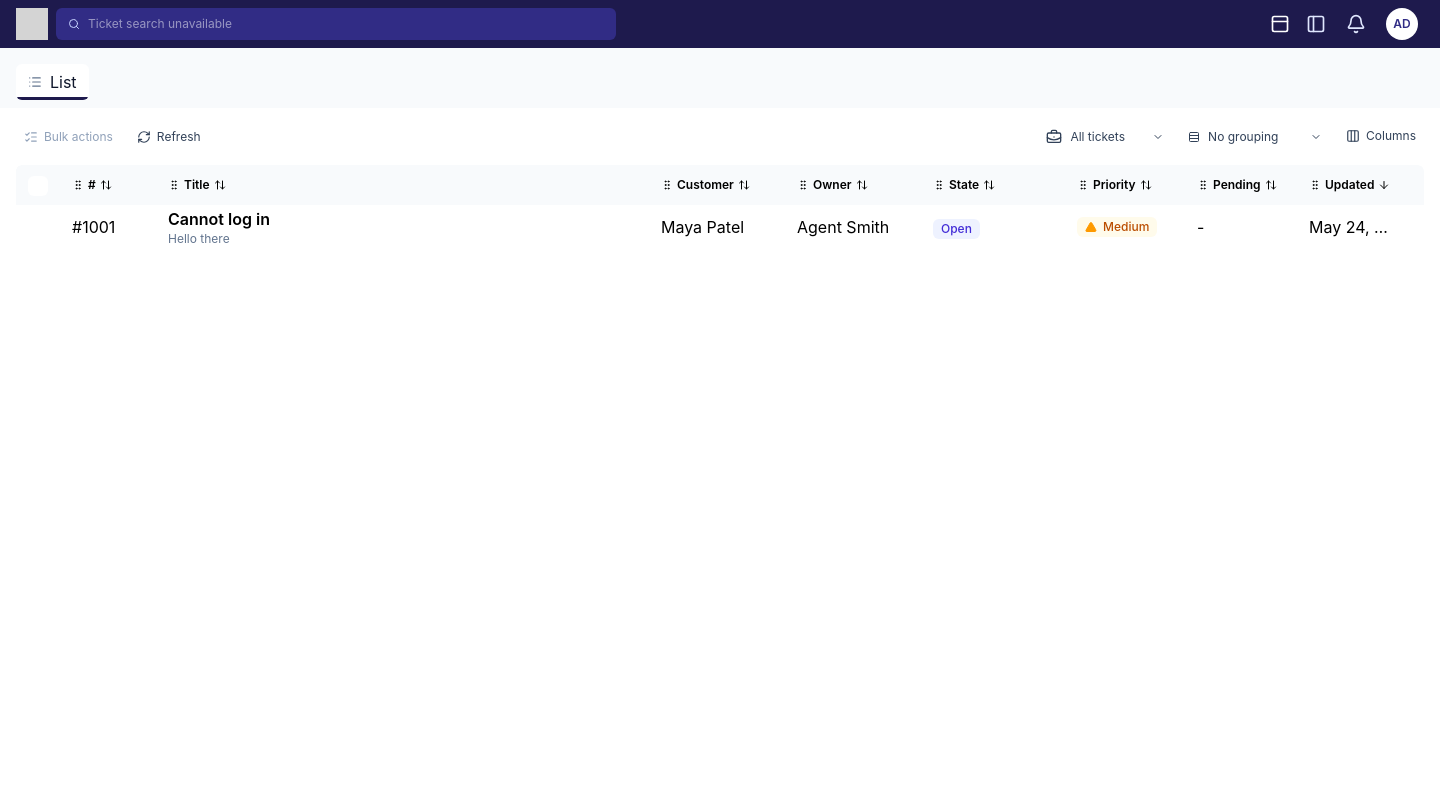
Test: TicketWorkspace AI settings admin personal key › hides the personal key form when users-provide-keys is not selected
This screenshot has width=1440, height=810.
Click the button with aria-label "Open profile menu, Support" at (1402, 24), box top-left (1380, 4), bottom-right (1424, 44)
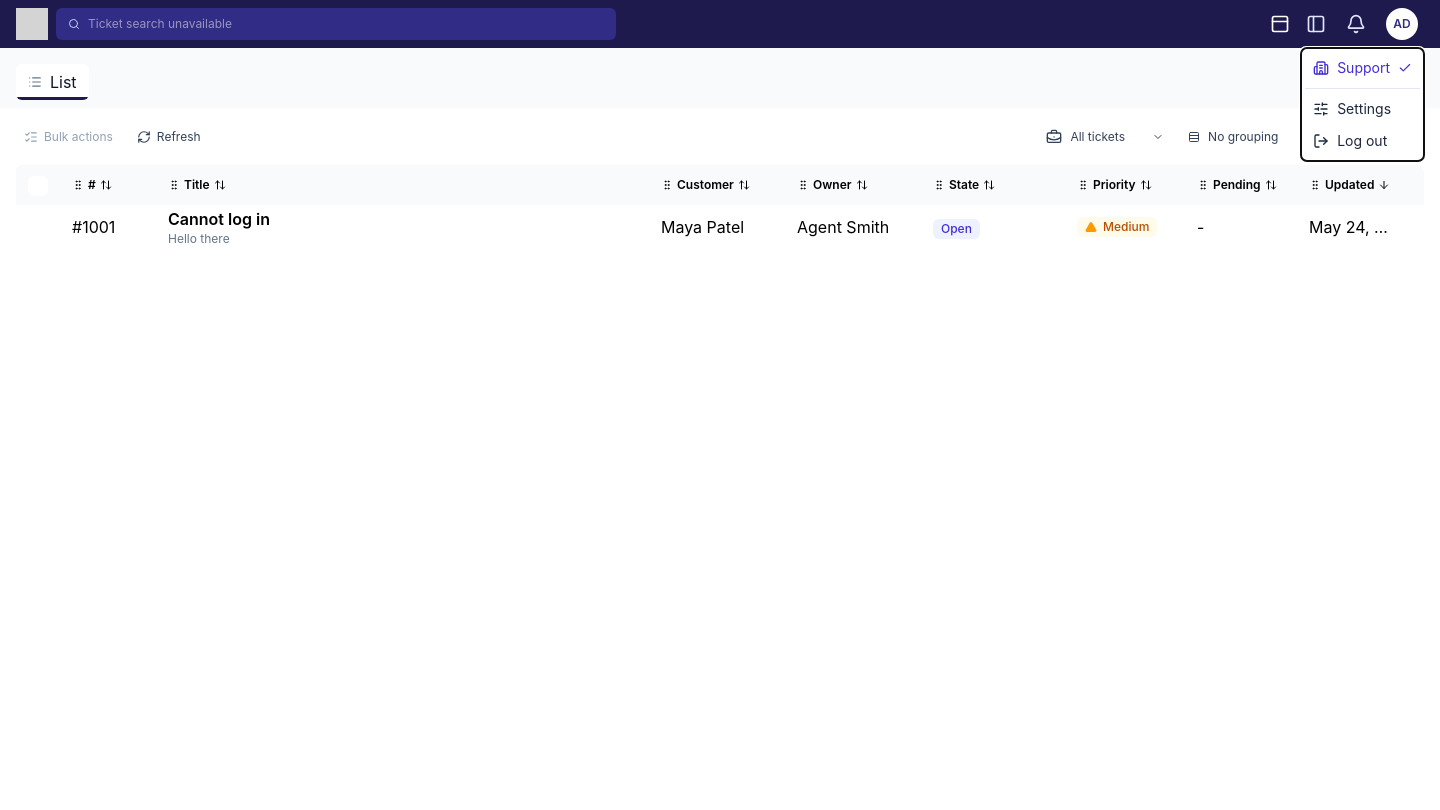
Click the menu item "Settings" at (1363, 109), box top-left (1305, 93), bottom-right (1420, 125)
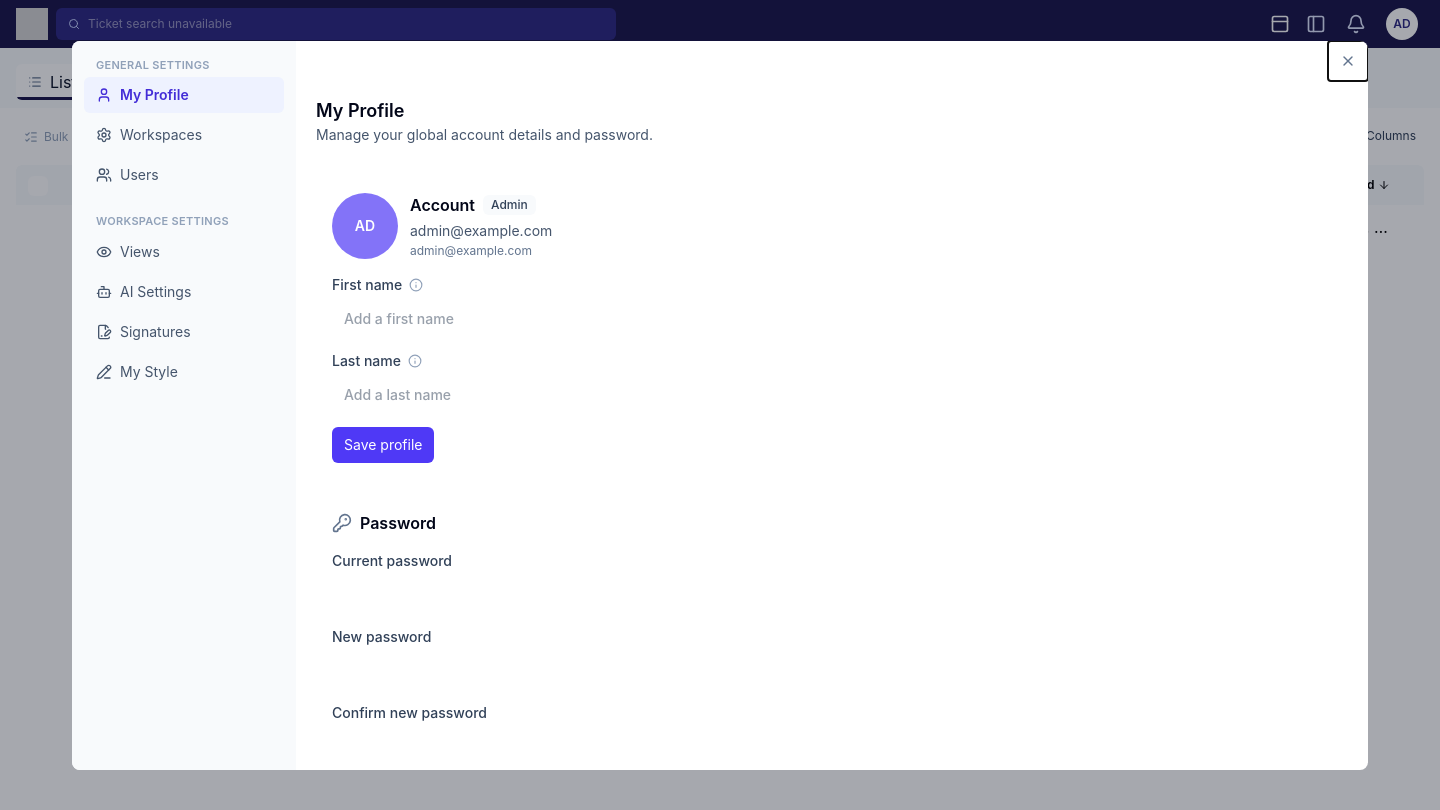
Click the button "AI Settings" at (184, 292), box top-left (84, 274), bottom-right (284, 310)
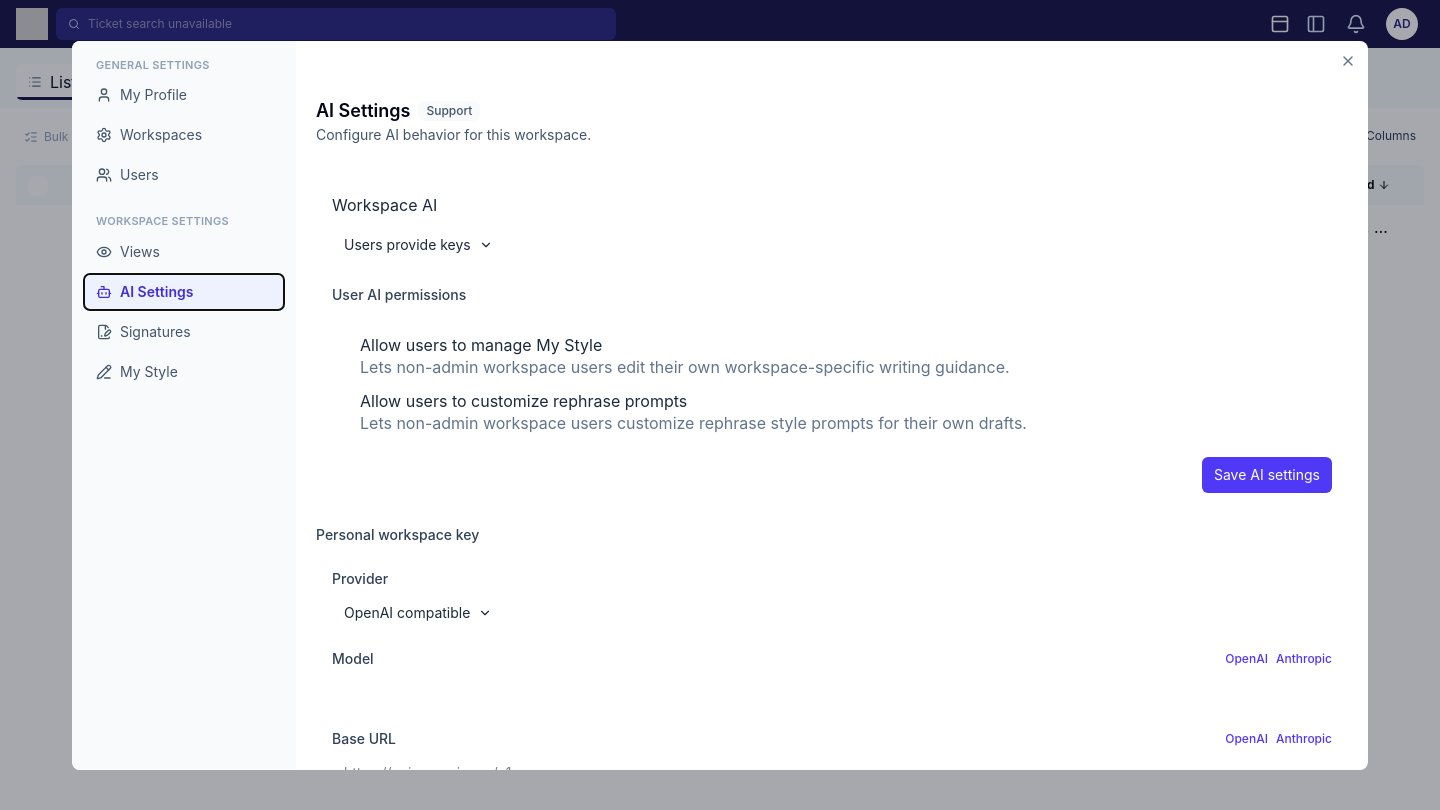
Now the heading "Personal workspace key" is shown, box top-left (316, 526), bottom-right (479, 542)
Click the dropdown named "Workspace AI" at (418, 244), box top-left (332, 224), bottom-right (505, 264)
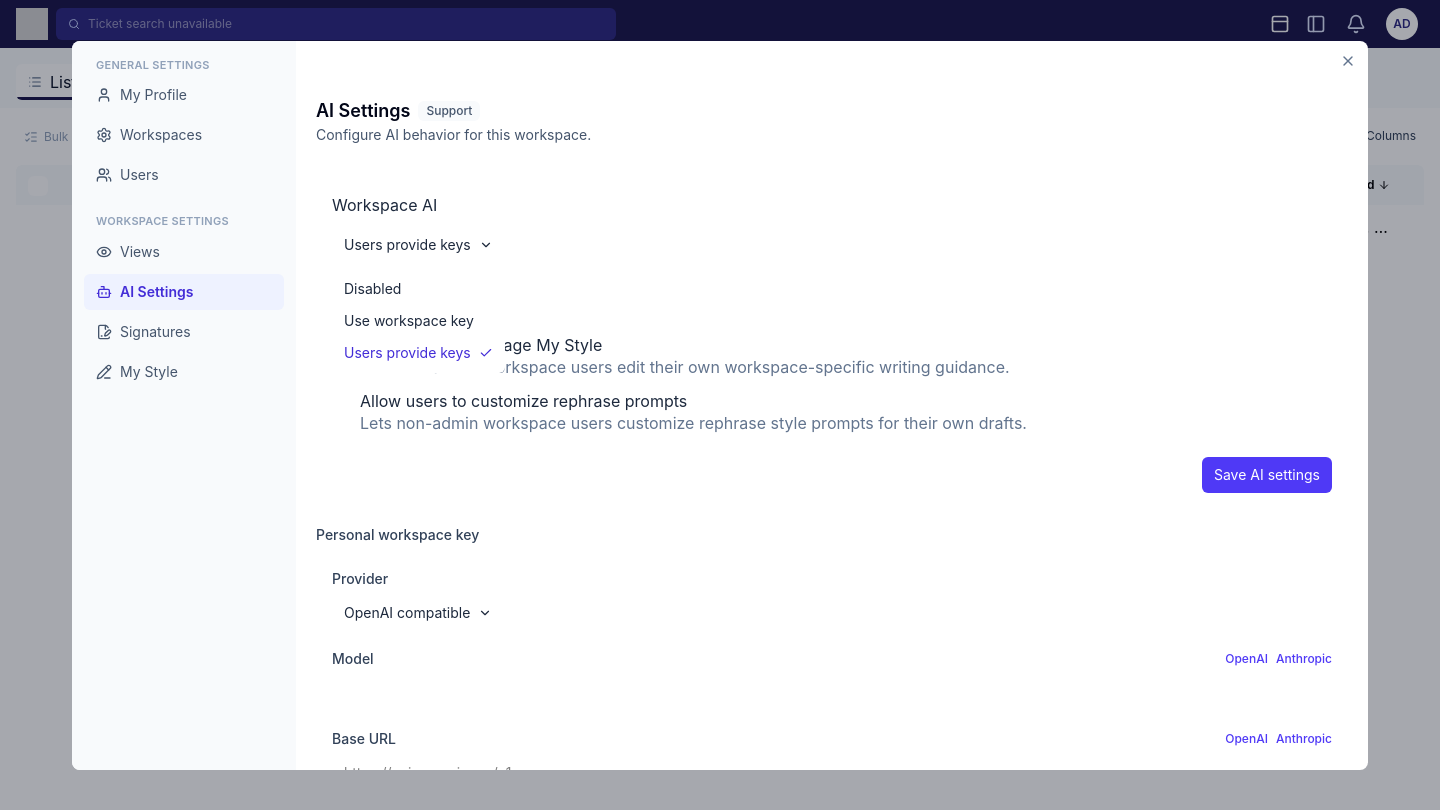
Click the option "Disabled" at (418, 288), box top-left (336, 272), bottom-right (501, 304)
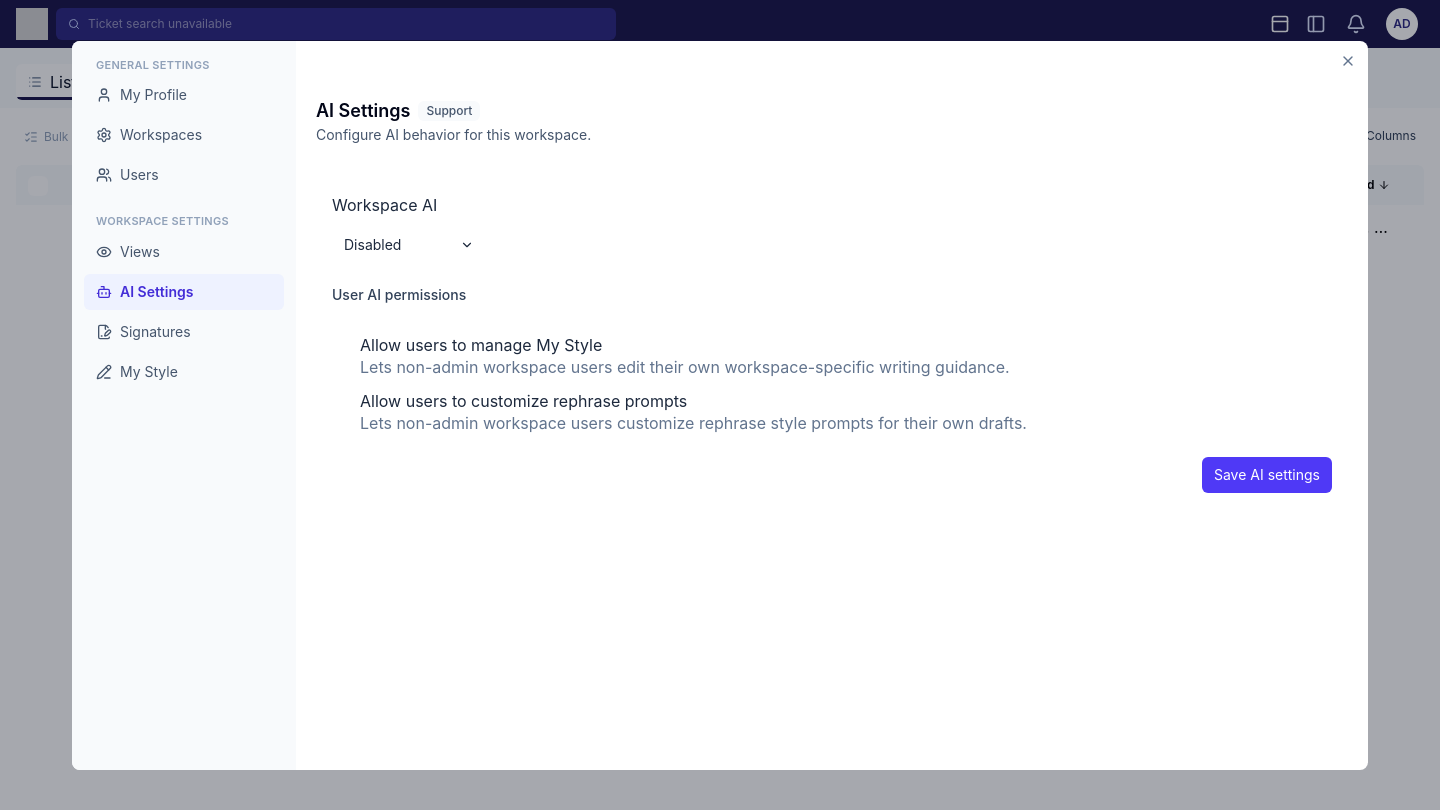
Now the button "Save AI settings" is shown, box top-left (1202, 456), bottom-right (1332, 492)
Now the heading "Personal workspace key" is gone
